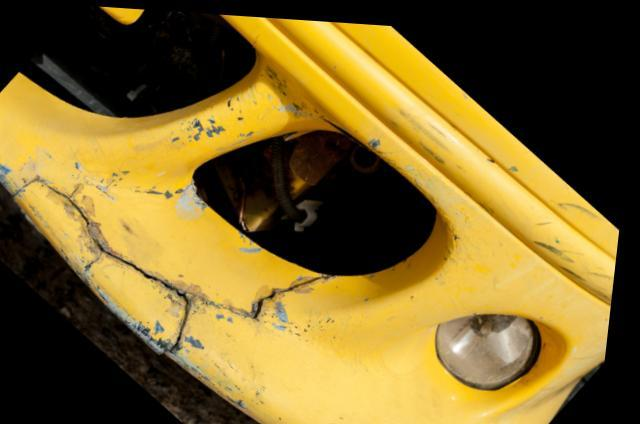crack: (13, 177, 339, 353)
scratch: (528, 208, 620, 293)
